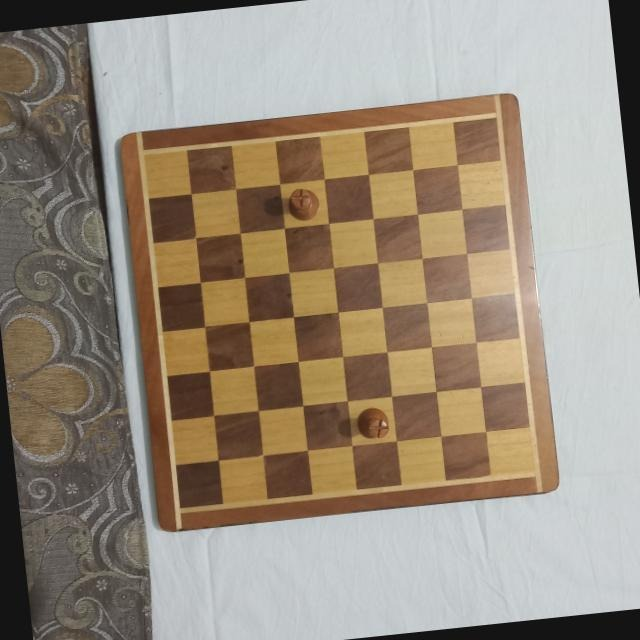white-rook: (285, 185, 323, 223), (354, 404, 391, 440)
